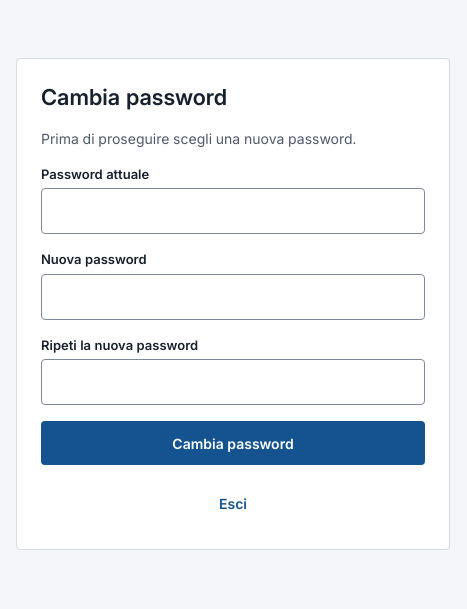
Test case: schermata /password › rifiuta due nuove password diverse
The width and height of the screenshot is (467, 609).
Type "vecchia-password-lunga" into the password field labelled "Password attuale". click: (233, 211)
box: [41,188,425,234]
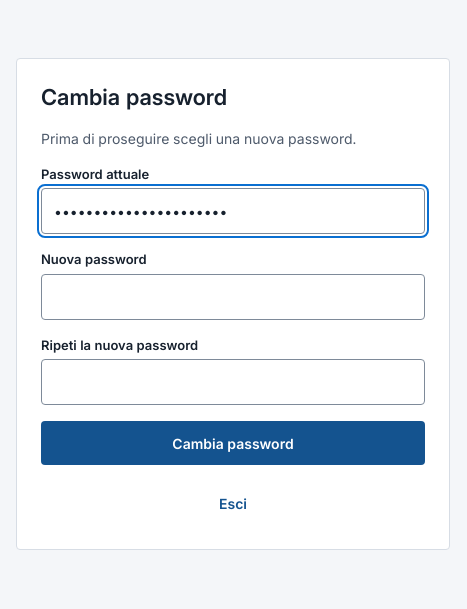
Type "nuova-password-sintetica" into the password field labelled "Nuova password". click: (233, 296)
box: [41,274,425,320]
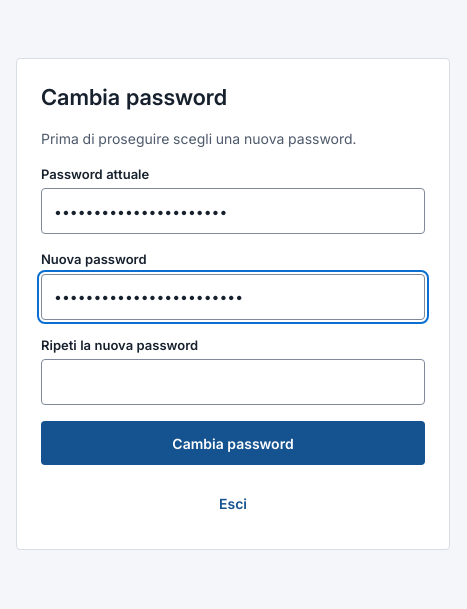
Type "nuova-password-diversa" into the password field labelled "Ripeti la nuova password". click: (233, 382)
box: [41,359,425,405]
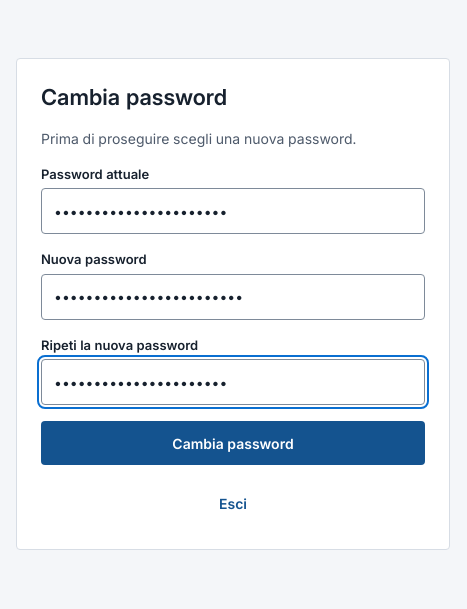
Click the button "Cambia password". click: (233, 443)
box: [41,421,425,465]
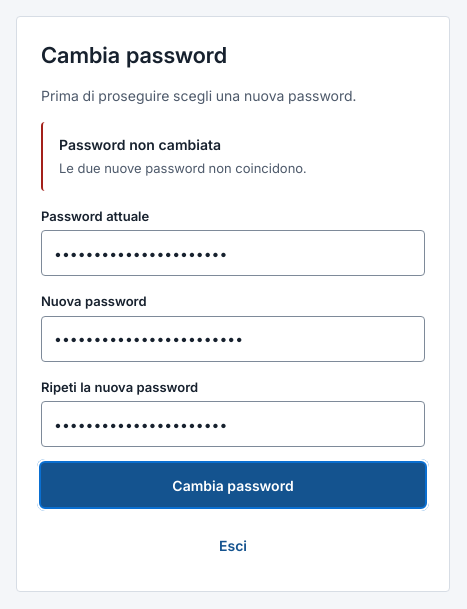
Check: the text "Le due nuove password non coincidono." is shown, box [59,160,307,176]
